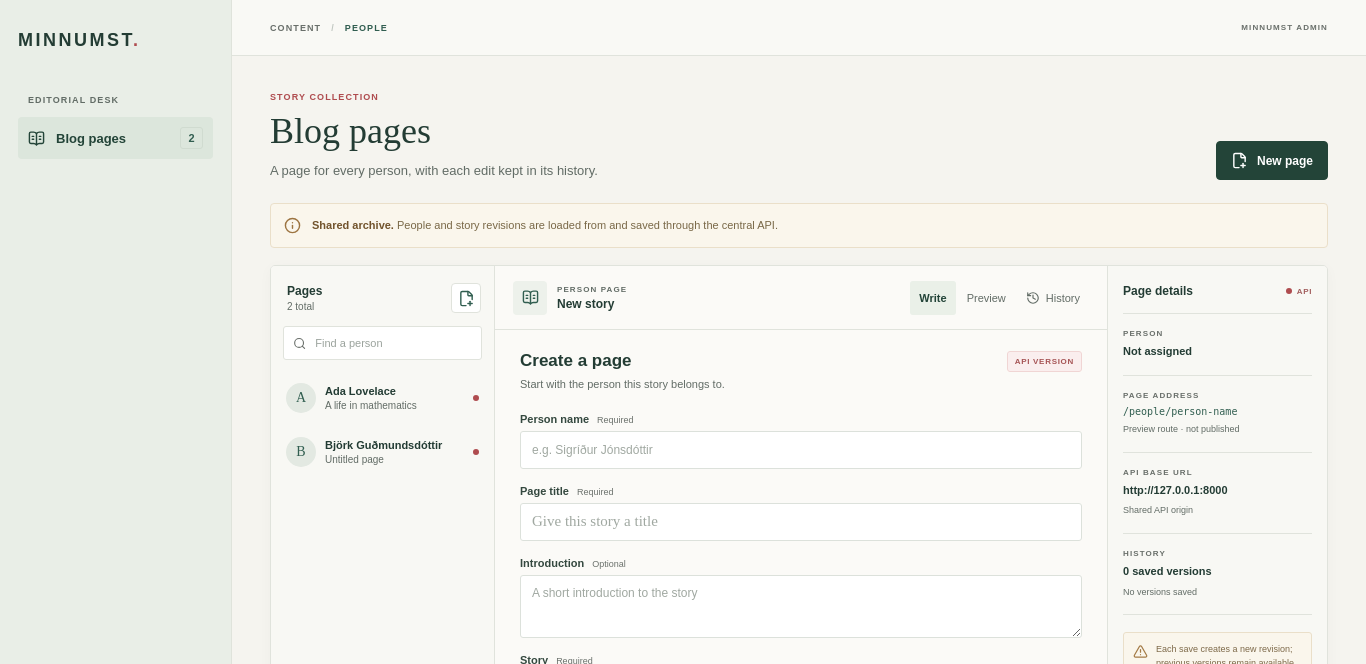
Test: unsaved changes › asks before discarding an edited story when another page is selected
Click the button "A Ada Lovelace A life in mathematics" at [382, 398], box [278, 372, 487, 423]
(page scrolled)
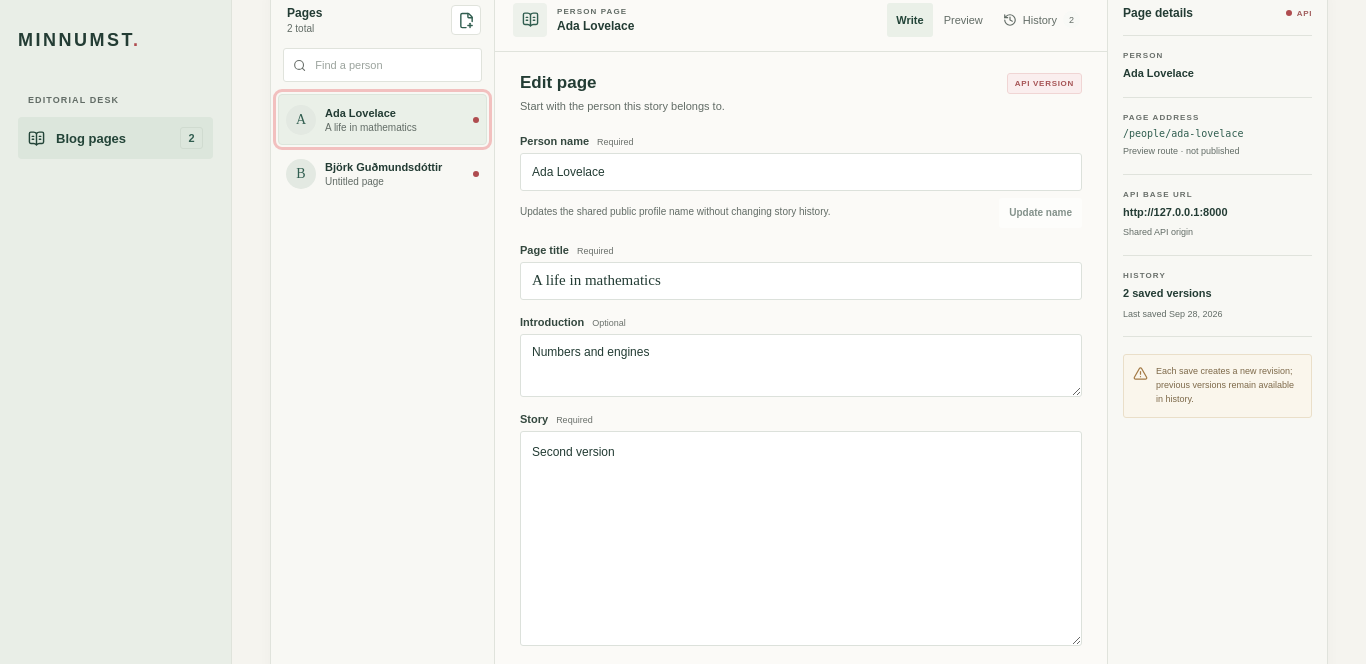
Type " with notes" into the text box showing "Second version" at [801, 539], box [520, 431, 1082, 646]
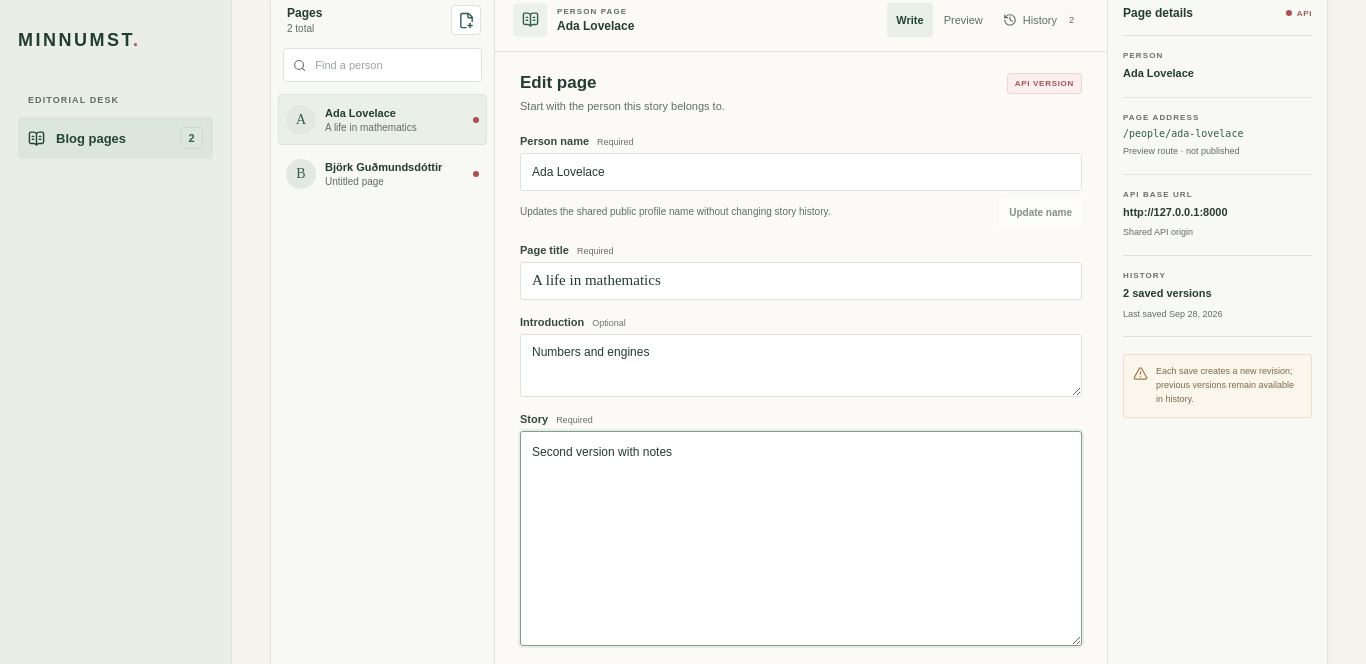
// Cancelling keeps the edit and the selection.
Click the button "B Björk Guðmundsdóttir Untitled page" at [382, 174], box [278, 148, 487, 199]
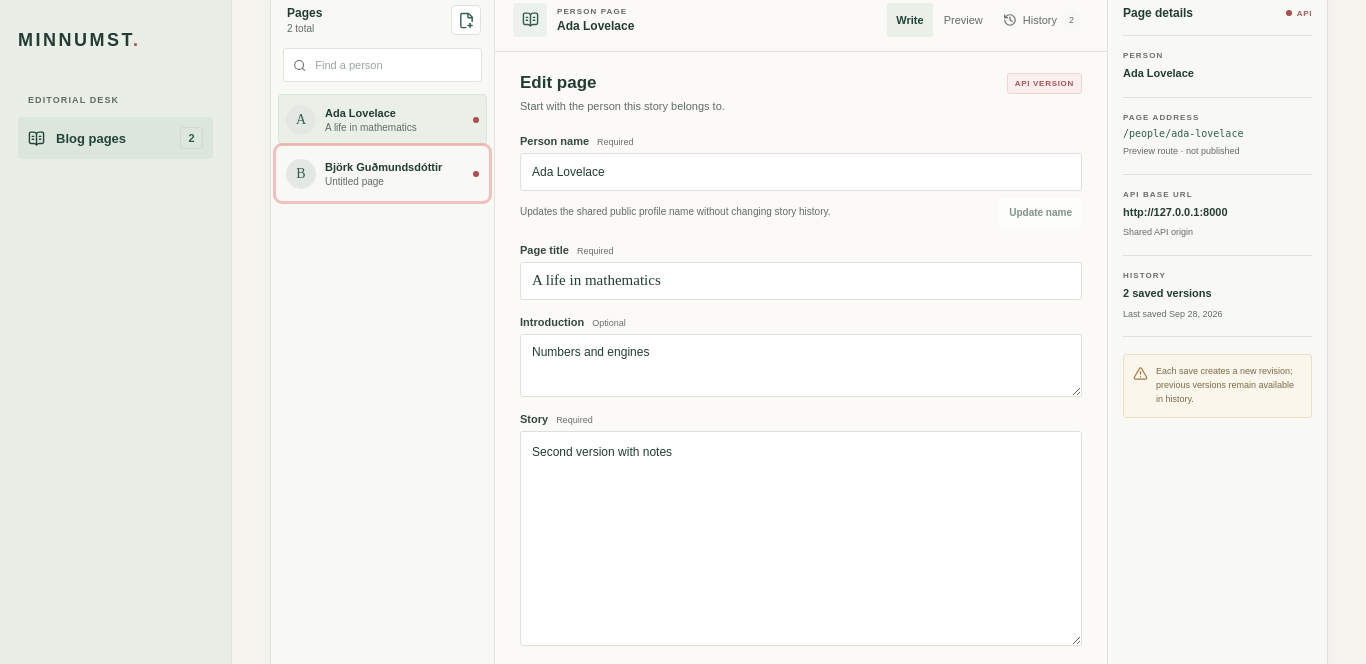
Check: the text box showing "Second version" holds "Second version with notes", box [520, 431, 1082, 646]
Check: the field labelled "Person name Required" holds "Ada Lovelace", box [520, 153, 1082, 191]
Click the button "B Björk Guðmundsdóttir Untitled page" at [382, 174], box [278, 148, 487, 199]
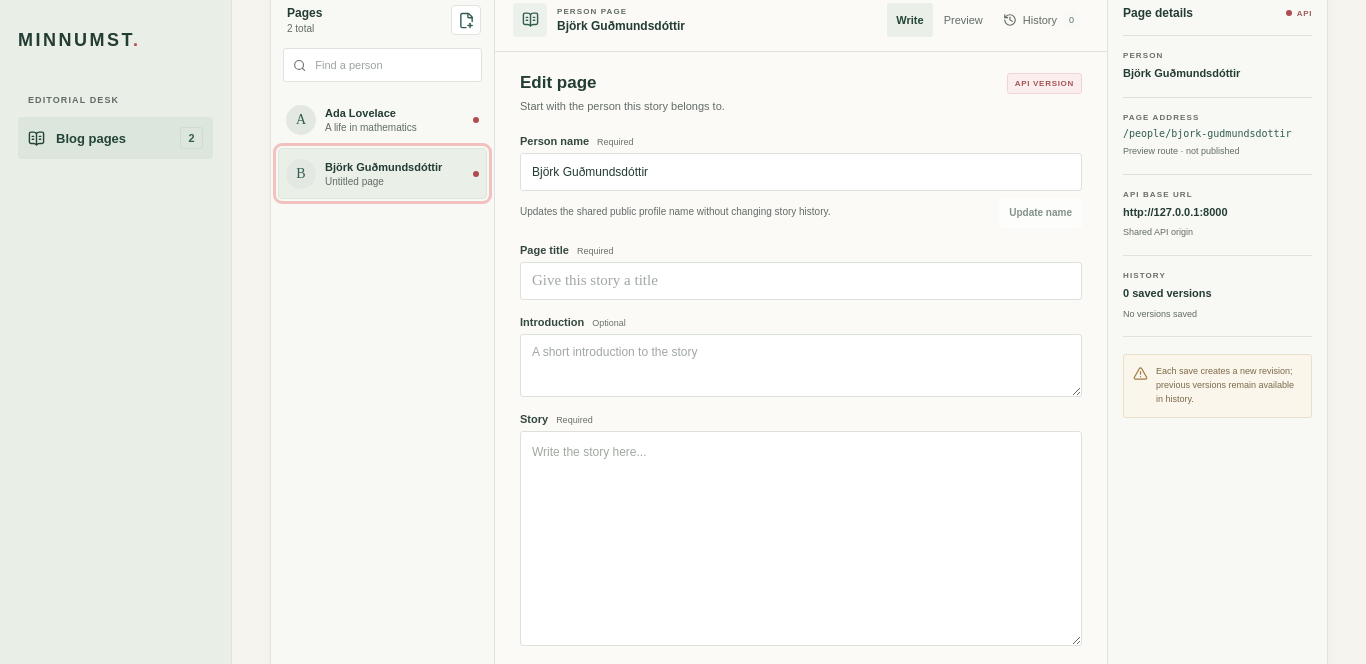
Check: the field labelled "Person name Required" holds "Björk Guðmundsdóttir", box [520, 153, 1082, 191]
Check: the text box labelled "Story Required" is empty, box [520, 431, 1082, 646]
